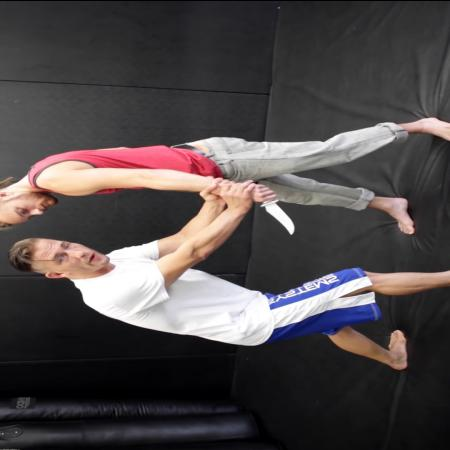long weapon: (246, 176, 302, 238)
